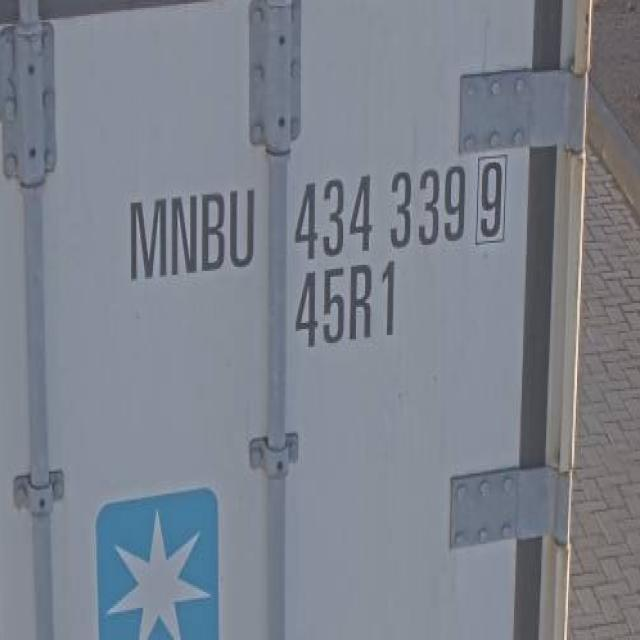dv: (471, 147, 511, 249)
owner: (123, 182, 260, 287)
serial: (292, 157, 470, 263)
size: (286, 258, 409, 351)
